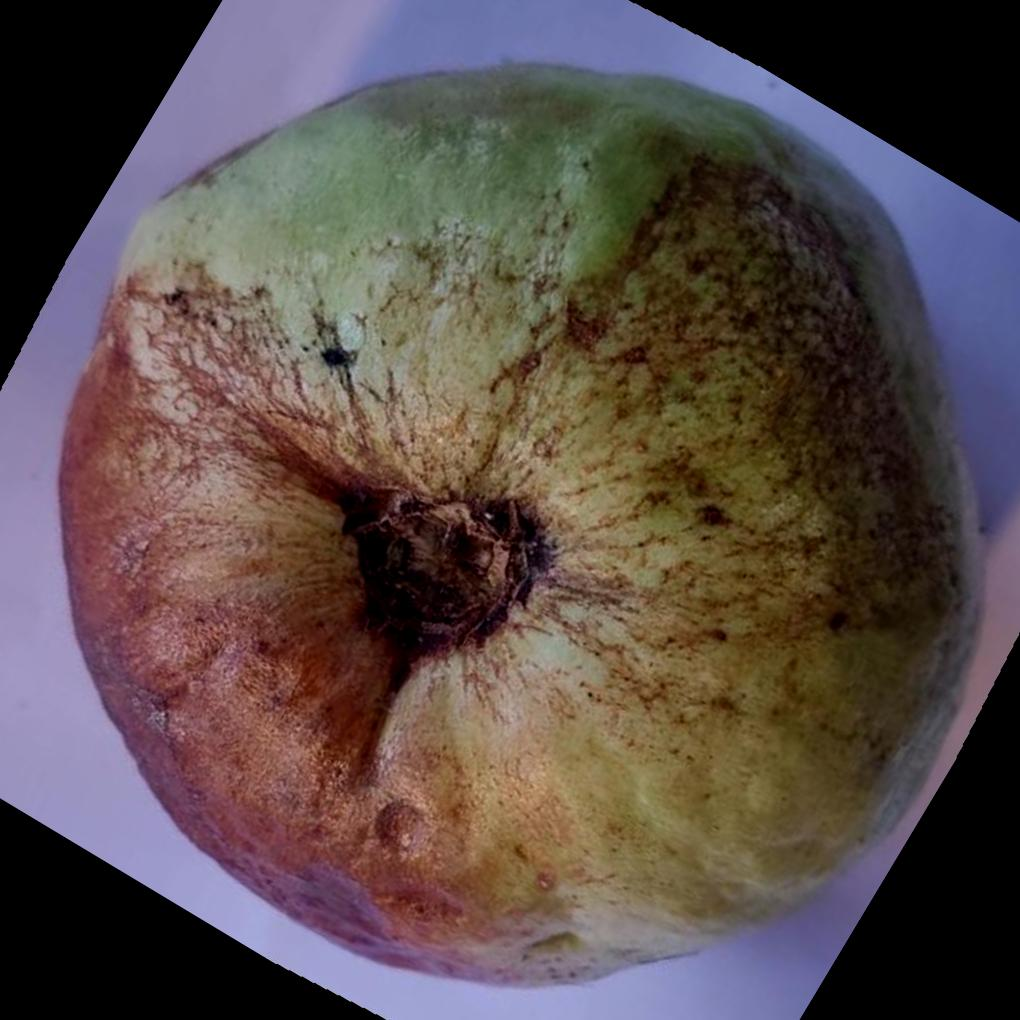FreshOrange: (57, 61, 991, 991)
